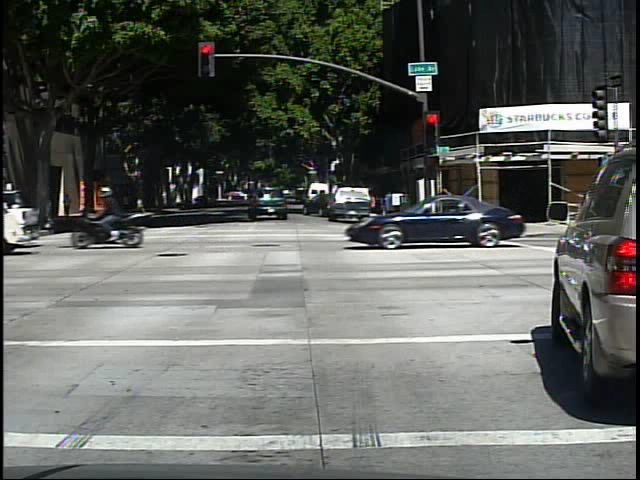person: (106, 182, 145, 243), (64, 191, 73, 221)
